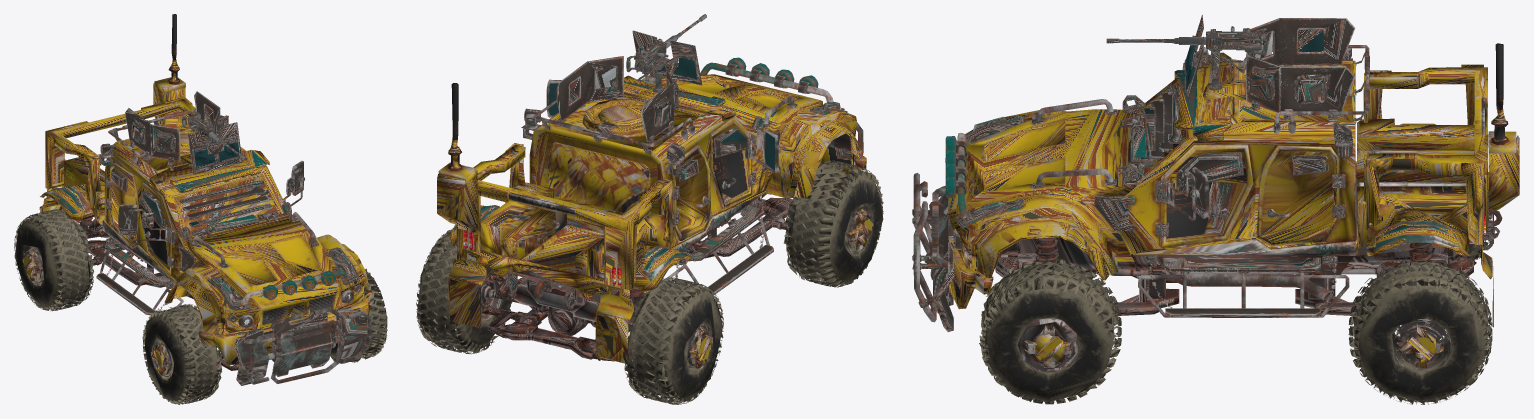
Rendered from jeep.glb.
The picture shows the model from 3 angles, left to right: view 1: azimuth 30°, elevation 25°; view 2: azimuth 150°, elevation 25°; view 3: azimuth 270°, elevation 25°; orthographic projection. The views are drawn at different scales.
Visible parts, largest first — view 1: object 7, object 1, K_Tire_high_002__1, K_Tire_high_002__0, K_Machine_Gun_001__0, object 8, K_Tire_high_002__2, K_Machine_Gun__0; view 2: object 7, K_Tire_high_002__1, object 1, object 8, K_Tire_high_002__0, K_Machine_Gun_001__0, K_Tire_high_002__2, K_Machine_Gun__0, object 9, K_Machine_Gun_005__0; view 3: object 7, object 1, K_Tire_high_002__1, object 8, K_Tire_high_002__0, object 9, K_Machine_Gun__0, K_Tire_high_002__2, K_Machine_Gun_001__0.
Part boxes in pixels (x1,y1,x2,y2): object 7: (39,14,374,365); object 1: (96,91,371,385); K_Tire_high_002__1: (14,209,387,404); K_Tire_high_002__0: (14,209,387,404); K_Machine_Gun_001__0: (187,122,242,174); object 8: (79,217,270,370); K_Tire_high_002__2: (14,212,218,401); K_Machine_Gun__0: (188,114,246,160); object 7: (437,74,866,363); K_Tire_high_002__1: (416,160,883,404); object 1: (463,56,863,309); object 8: (481,170,792,361); K_Tire_high_002__0: (416,160,883,404); K_Machine_Gun_001__0: (632,30,702,85); K_Tire_high_002__2: (417,161,878,403); K_Machine_Gun__0: (634,14,706,71); object 9: (507,133,851,303); K_Machine_Gun_005__0: (634,52,676,92); object 7: (948,43,1519,327); object 1: (912,18,1502,331); K_Tire_high_002__1: (979,214,1492,404); object 8: (995,237,1473,315); K_Tire_high_002__0: (983,214,1492,403); object 9: (1018,177,1473,274); K_Machine_Gun__0: (1106,26,1261,51); K_Tire_high_002__2: (1351,240,1490,404); K_Machine_Gun_001__0: (1184,15,1203,101).
Size of the model in its own units: 2.5 by 2.58 by 4.18.
4 materials, 4 textured.
